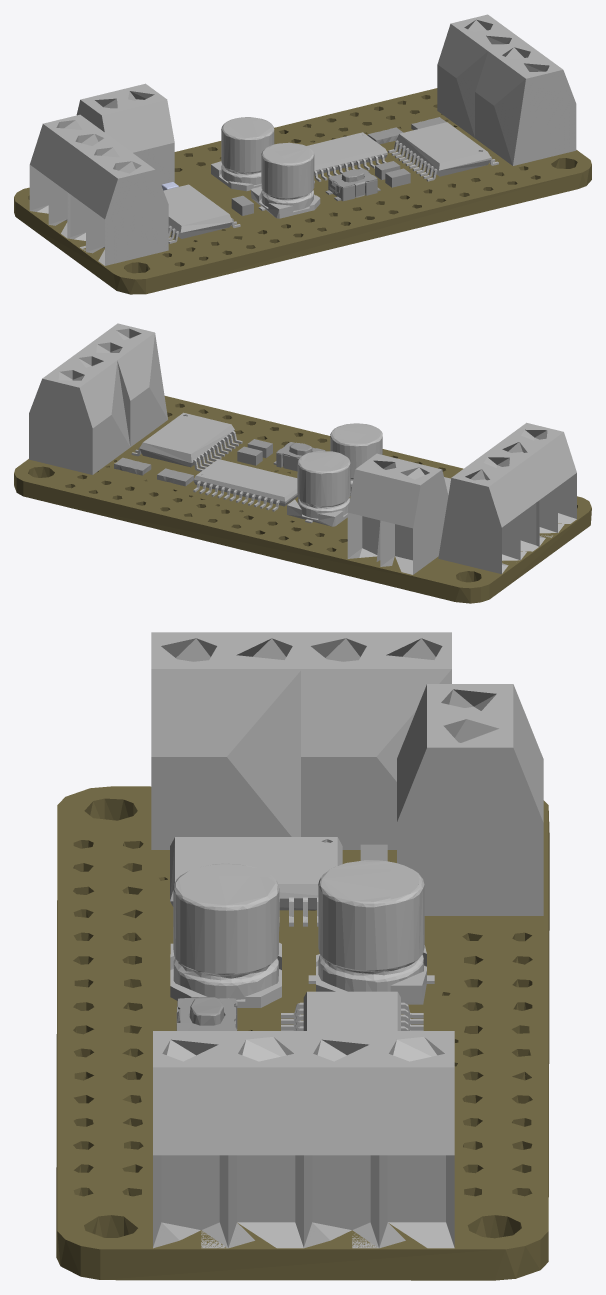
The model's file is adafruit-2927-motor-featherwing.glb.
The picture shows the model from 3 angles, top to bottom: view 1: azimuth 30°, elevation 25°; view 2: azimuth 150°, elevation 25°; view 3: azimuth 270°, elevation 25°; orthographic projection. The views are drawn at different scales.
Visible parts, largest first — view 1: colour 2, colour 1, colour 3; view 2: colour 2, colour 1, colour 3; view 3: colour 2, colour 1, colour 3.
Part boxes in pixels (x1=…): colour 2: x1=29, y1=14, x2=576, y2=265; colour 1: x1=14, y1=88, x2=591, y2=294; colour 3: x1=231, y1=117, x2=446, y2=215; colour 2: x1=29, y1=323, x2=576, y2=574; colour 1: x1=14, y1=396, x2=591, y2=603; colour 3: x1=114, y1=439, x2=325, y2=486; colour 2: x1=151, y1=632, x2=543, y2=1248; colour 1: x1=56, y1=786, x2=549, y2=1280; colour 3: x1=176, y1=844, x2=387, y2=1030.
Bounding box in the file's own units: 0.0508 × 0.0102 × 0.0229.
